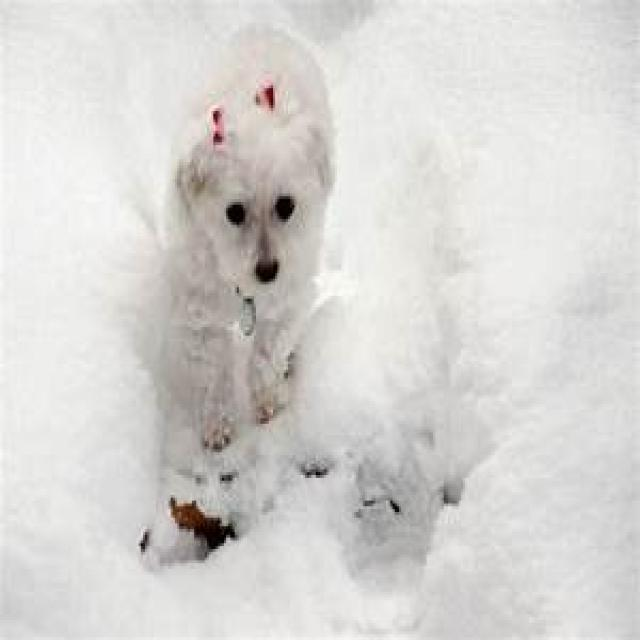KOPEK: (159, 28, 330, 456)
